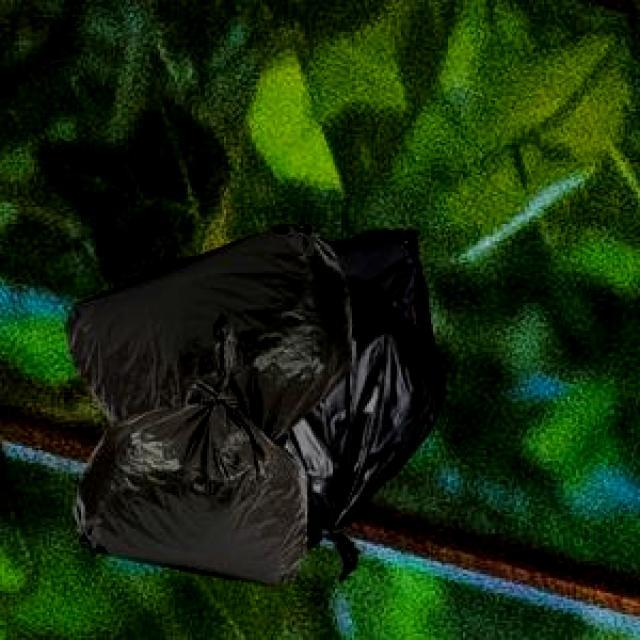Trashbag: (51, 360, 383, 592)
